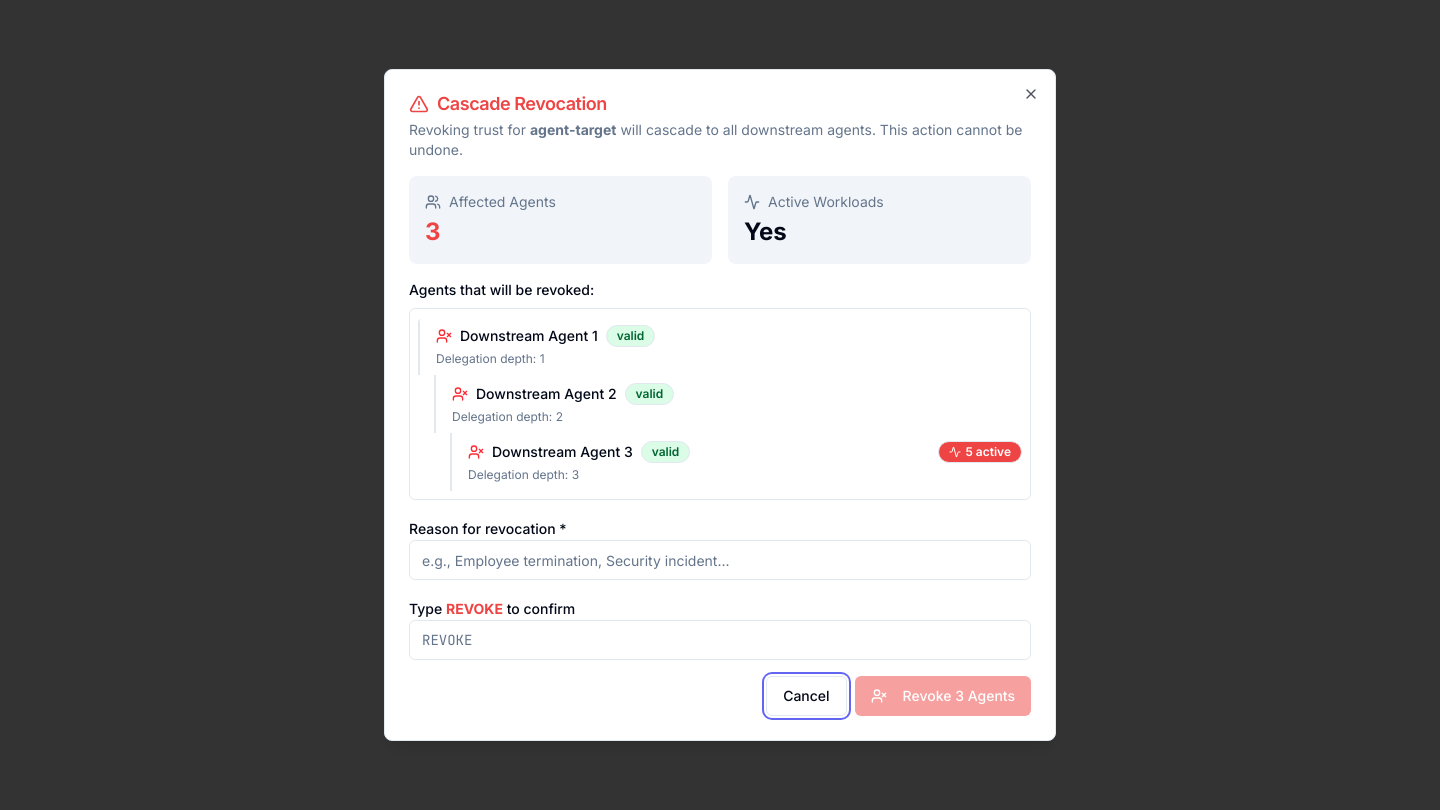
Test case: CascadeRevocationModal › Intent: Revocation confirmation requires exact REVOKE text to prevent accidents › shows error message when confirmation text is incorrect
Check: the text "Affected Agents" is shown, box [449,192,556,212]
// Type wrong confirmation
Type "DELETE" into the field with placeholder "REVOKE" at {"x": 720, "y": 640}, box [409,620,1031,660]
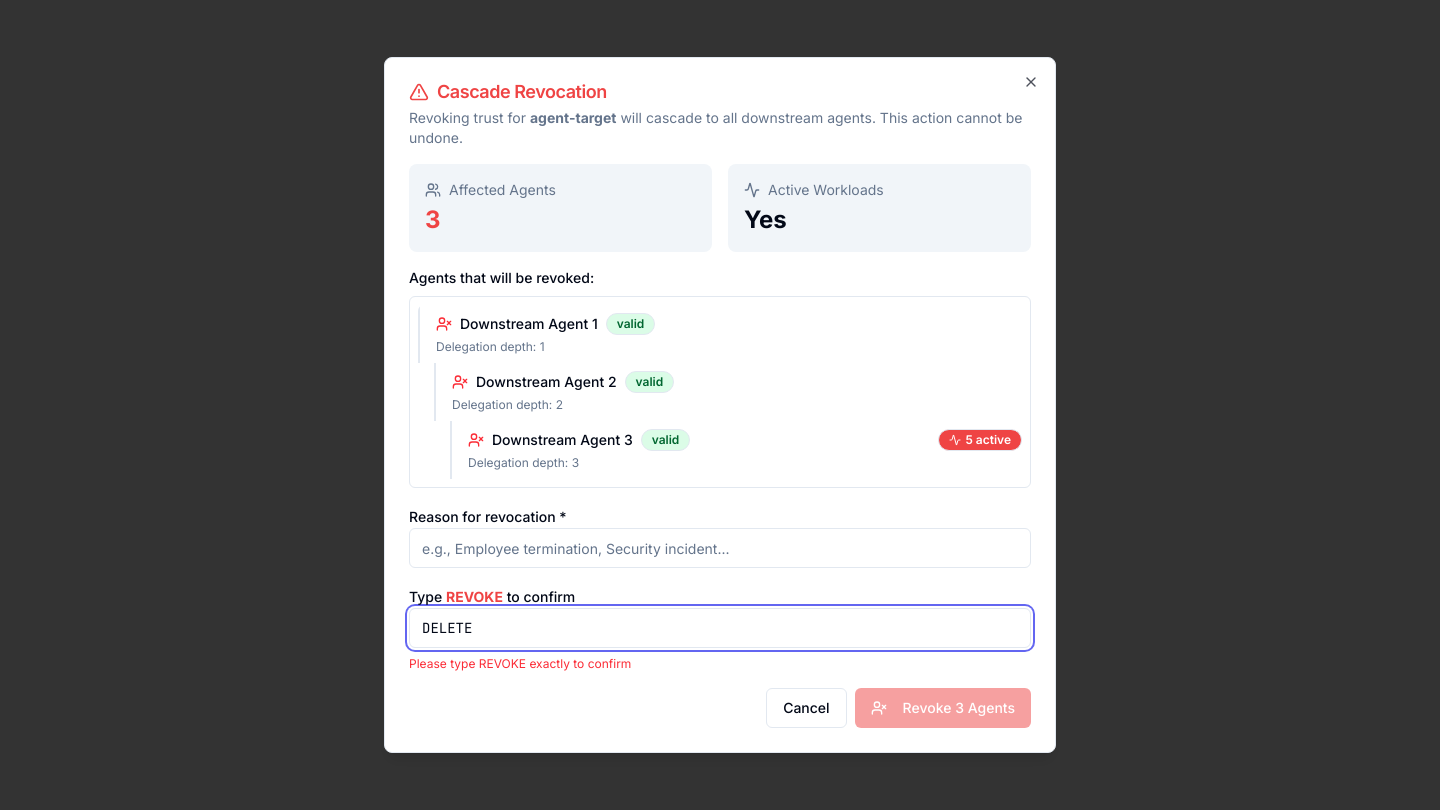
Check: the text "Please type REVOKE exactly to confirm" is shown, box [409,656,631,671]
